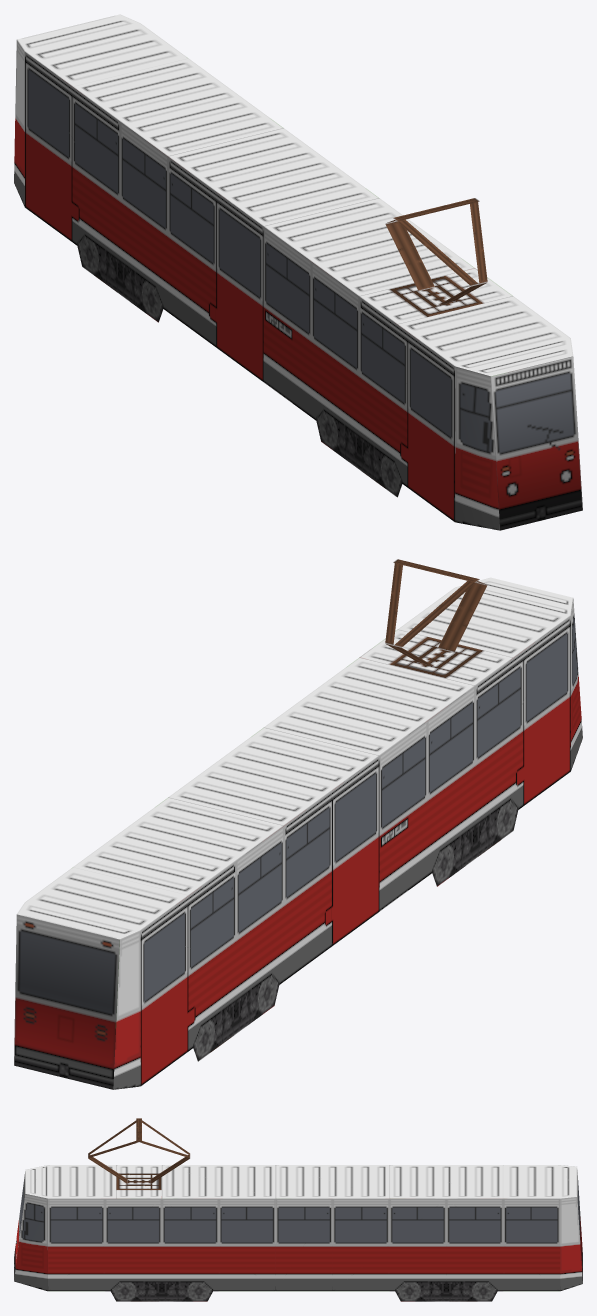
The model's file is tram.obj.
The picture shows the model from 3 angles, top to bottom: view 1: azimuth 30°, elevation 25°; view 2: azimuth 150°, elevation 25°; view 3: azimuth 270°, elevation 25°; orthographic projection. The views are drawn at different scales.
Visible parts, largest first — view 1: Regroup02; view 2: Regroup02; view 3: Regroup02.
Part boxes in pixels (x1,y1,x2,y2): Regroup02: [14, 14, 582, 530]; Regroup02: [14, 559, 582, 1089]; Regroup02: [14, 1118, 582, 1301].
Bounding box in the file's own units: 14 × 30 × 100.
Materials: 1 (1 with a texture image).
